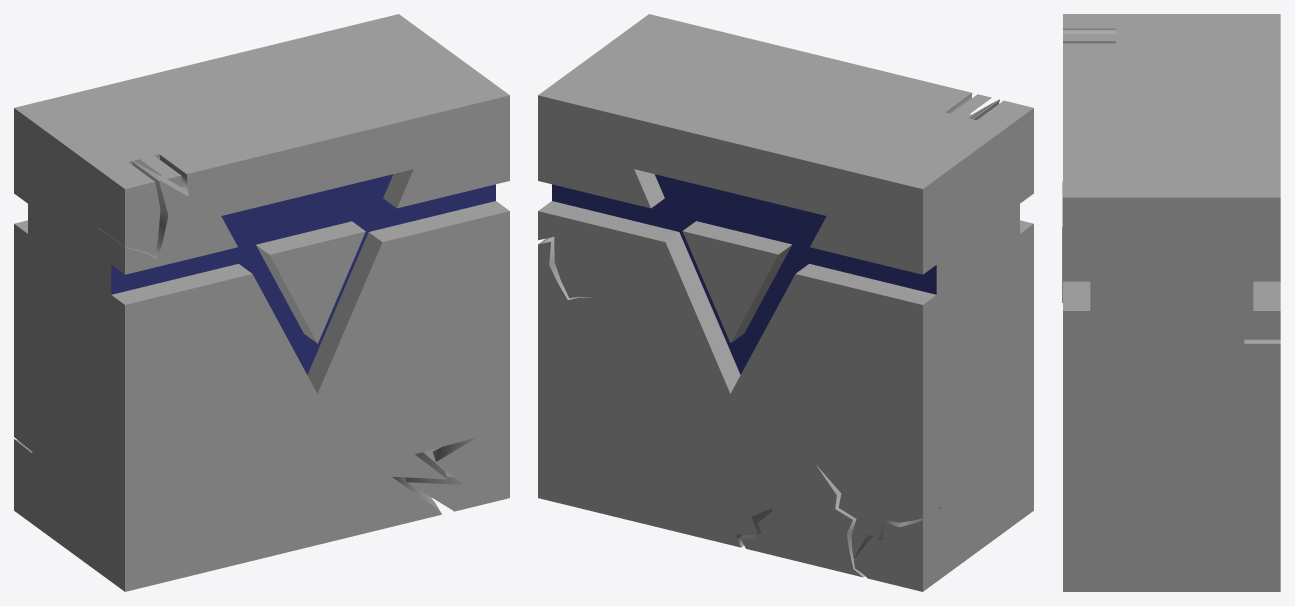
File: b_wallsym_tutorial_4x4x2.fbx
3 renders of one model, left to right at view 1: azimuth 30°, elevation 25°; view 2: azimuth 150°, elevation 25°; view 3: azimuth 270°, elevation 25°, orthographic. The views are drawn at different scales.
Visible parts, largest first — view 1: wall_sym_4x4, glow_tri_2; view 2: wall_sym_4x4, glow_tri; view 3: wall_sym_4x4.
Boxes of the visible parts, x1,y1,x2,y2 form: wall_sym_4x4: (14,14,509,591); glow_tri_2: (256,221,365,343); wall_sym_4x4: (538,14,1033,591); glow_tri: (682,221,792,343); wall_sym_4x4: (1063,14,1280,591).
Bounding box in the file's own units: 4 × 4 × 2.01.
